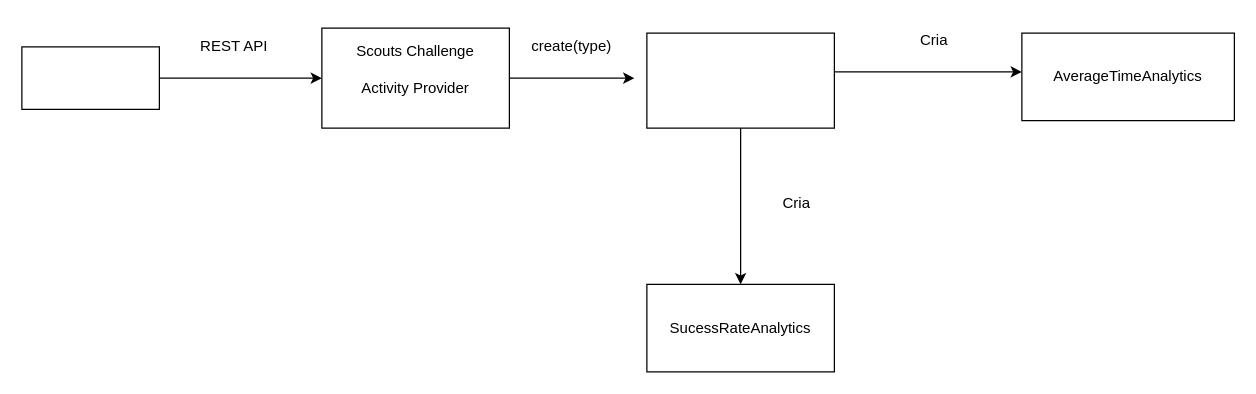
This 1256x394 diagram has some shape labels left out. Here are the shapes that lost their labels. From the top down, the box of each, then its label:
(21, 46, 159, 109): Invern!RA
(646, 32, 834, 128): AnalyticsFactory <<Factory Method>>
